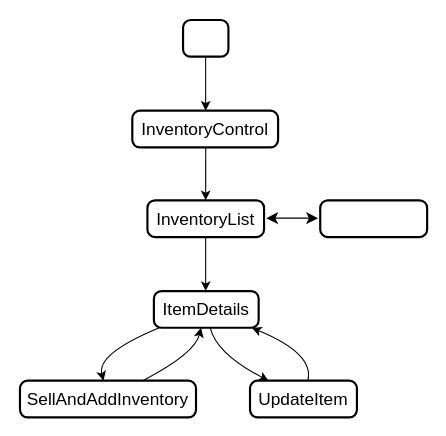
This 446x436 diagram has some shape labels left out. The shapes that lost their labels are listed below. From the top down, each one's centre as x and y in pixels, then its label:
pixel 205 37: App
pixel 373 218: AddNewItem
